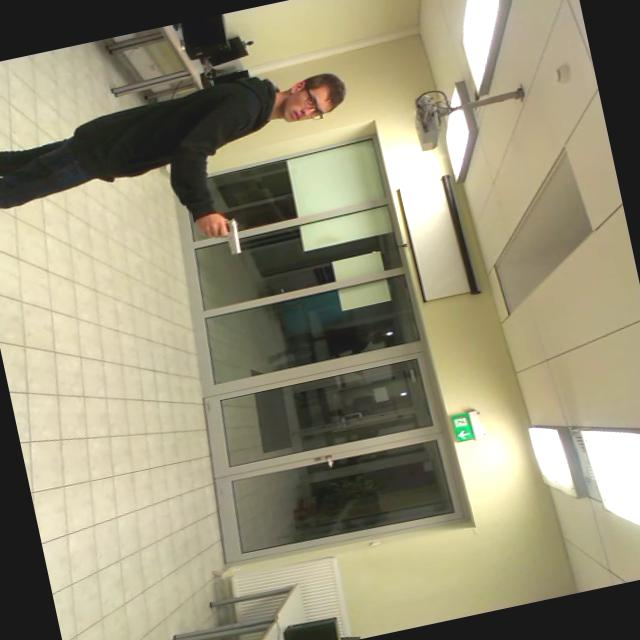handgun: (194, 208, 252, 263)
